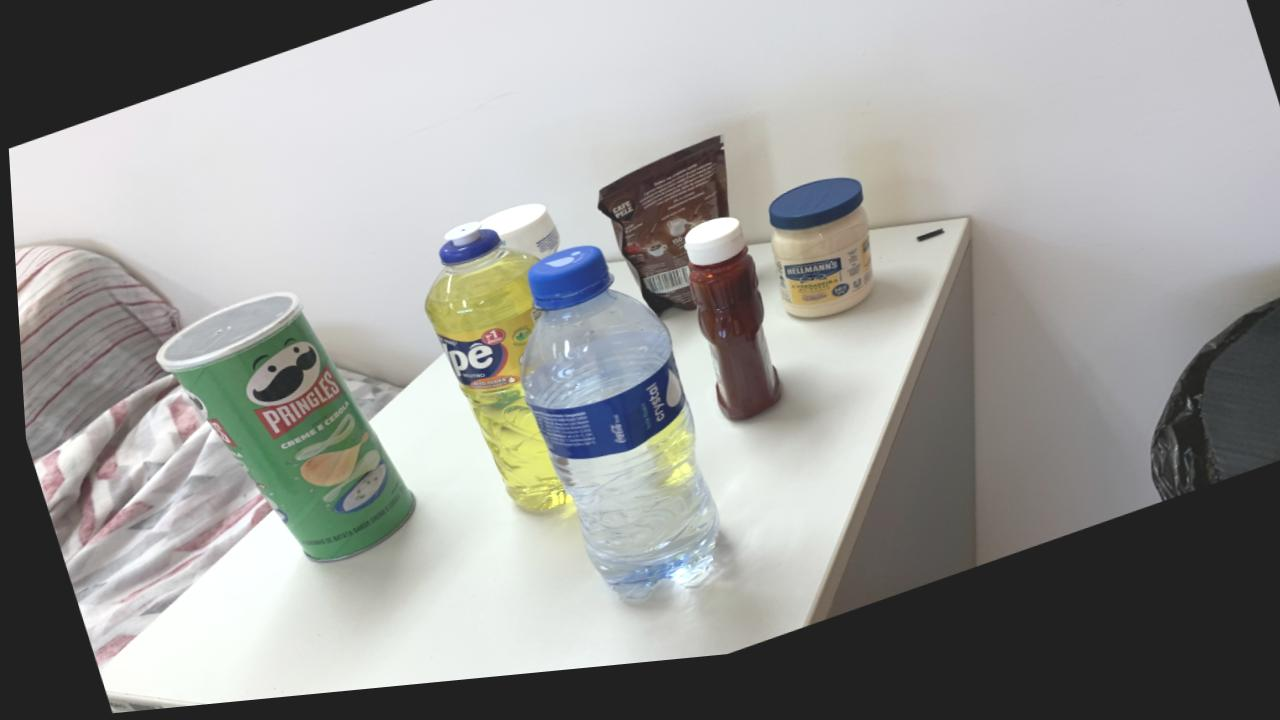Cleaner-Cleanup_Items: (475, 214, 557, 269)
Coffee-Pantry_Items: (594, 150, 726, 327)
Detergent-Cleanup_Items: (420, 232, 564, 522)
Ketchup-Pantry_Items: (681, 231, 777, 435)
Mayonnaise-Pantry_Items: (765, 194, 870, 334)
Pringles-Snacks: (155, 298, 409, 567)
Water_Bottle-Drinks: (515, 258, 712, 612)
